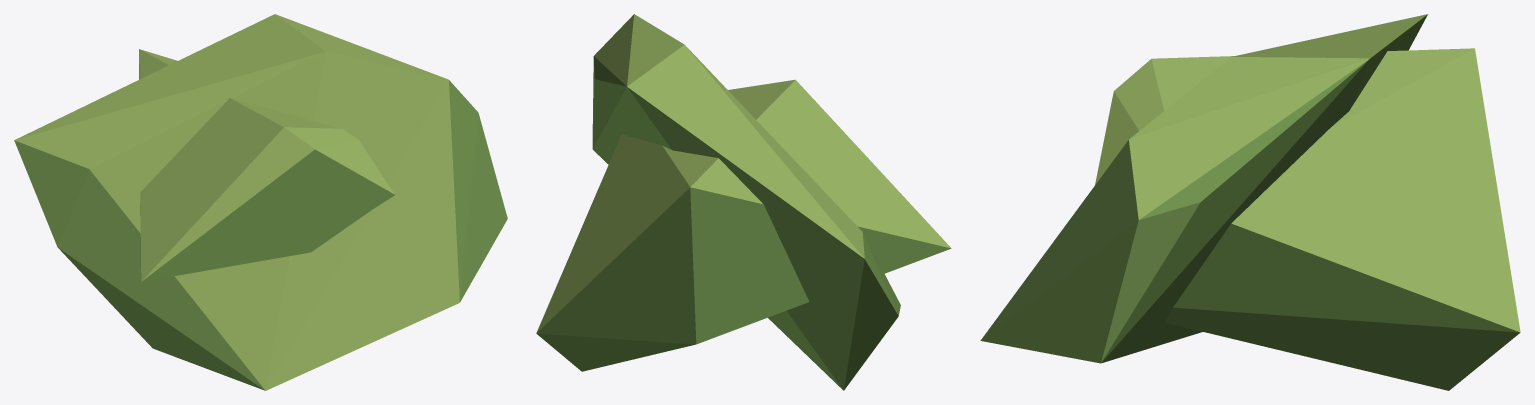
File: Bush_1.glb
3 views of the same model, side by side, from view 1: azimuth 30°, elevation 25°; view 2: azimuth 150°, elevation 25°; view 3: azimuth 270°, elevation 25° (orthographic). The views are drawn at different scales.
Visible parts, largest first — view 1: Bush_1; view 2: Bush_1; view 3: Bush_1.
Part boxes in pixels (bbox=[...]): Bush_1: bbox=[14, 14, 507, 390]; Bush_1: bbox=[536, 14, 951, 390]; Bush_1: bbox=[980, 14, 1520, 390].
Size of the model in its own units: 0.5789 by 0.3993 by 0.5445.
